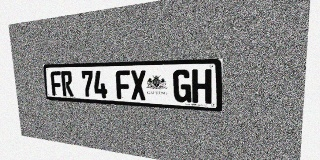4: (93, 70, 107, 98)
7: (81, 71, 94, 98)
F: (116, 70, 131, 100), (50, 71, 63, 96)
G: (173, 69, 191, 103)
H: (192, 69, 212, 104)
R: (61, 71, 74, 97)
X: (130, 70, 147, 100)
